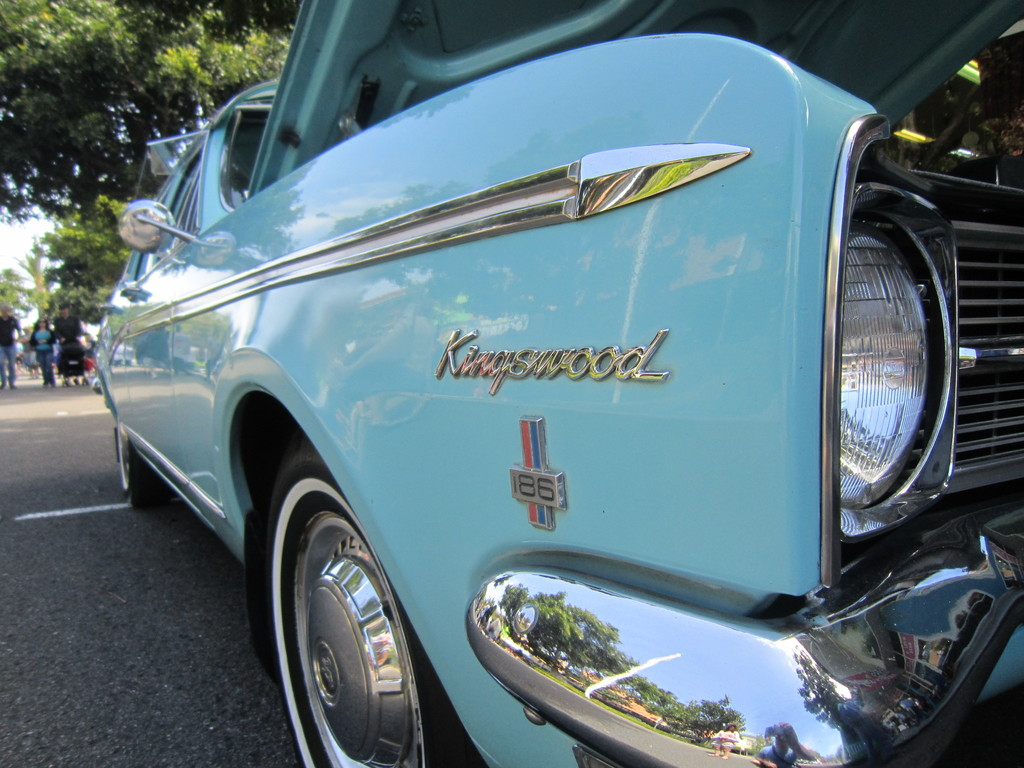Car: (91, 0, 1023, 767)
